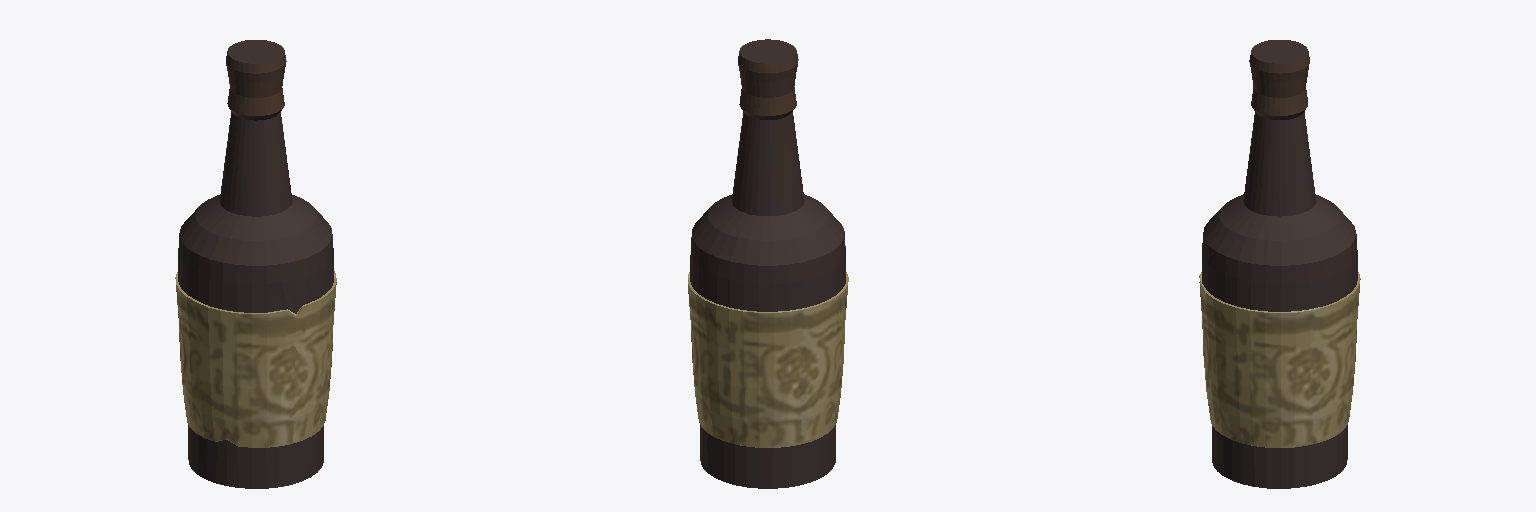
3 renders of one model, left to right at view 1: azimuth 30°, elevation 25°; view 2: azimuth 150°, elevation 25°; view 3: azimuth 270°, elevation 25°, orthographic.
Visible parts, largest first — view 1: Cylinder; view 2: Cylinder; view 3: Cylinder.
Boxes of the visible parts, x1,y1,x2,y2 form: Cylinder: [175, 40, 336, 488]; Cylinder: [688, 39, 848, 488]; Cylinder: [1199, 40, 1360, 488].
Bounding box in the file's own units: 0.0874 × 0.2438 × 0.0872.
Materials: 1 (1 with a texture image).